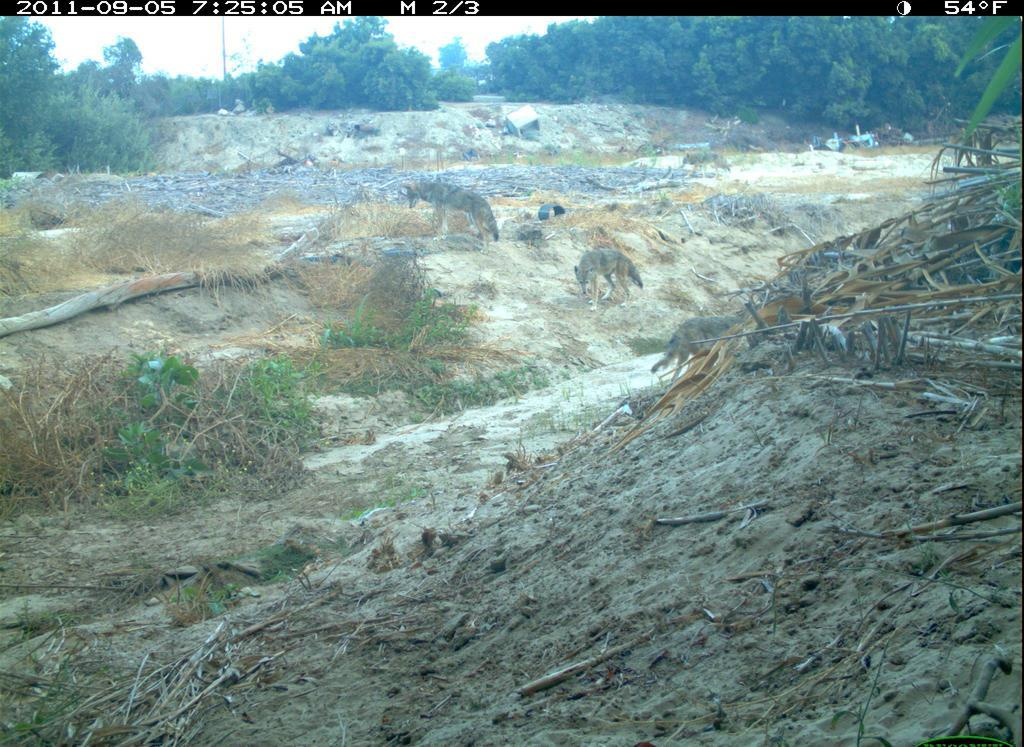coyote: (397, 172, 507, 257), (653, 308, 748, 385), (569, 242, 650, 317)
